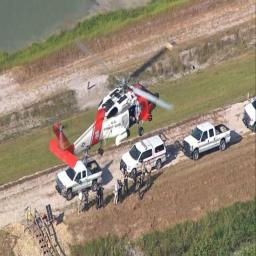helicopter: (48, 27, 182, 174)
